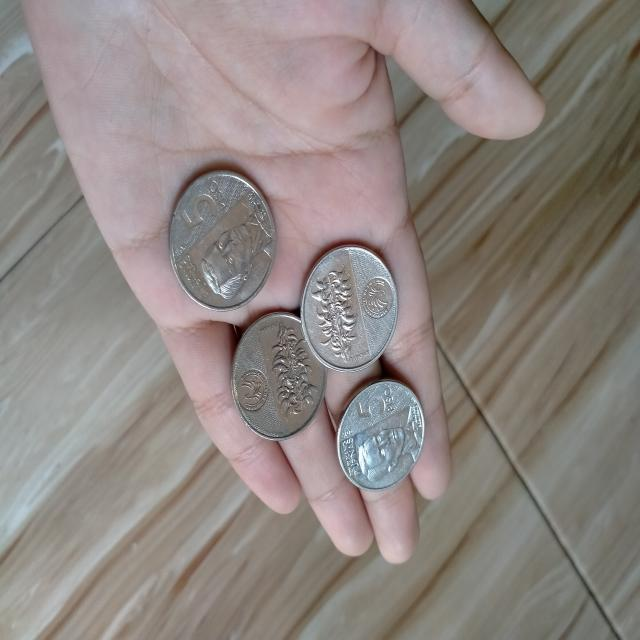5_New_Back: (263, 313, 322, 427), (313, 262, 365, 370)
5_New_Front: (172, 177, 238, 234), (344, 381, 395, 436)
